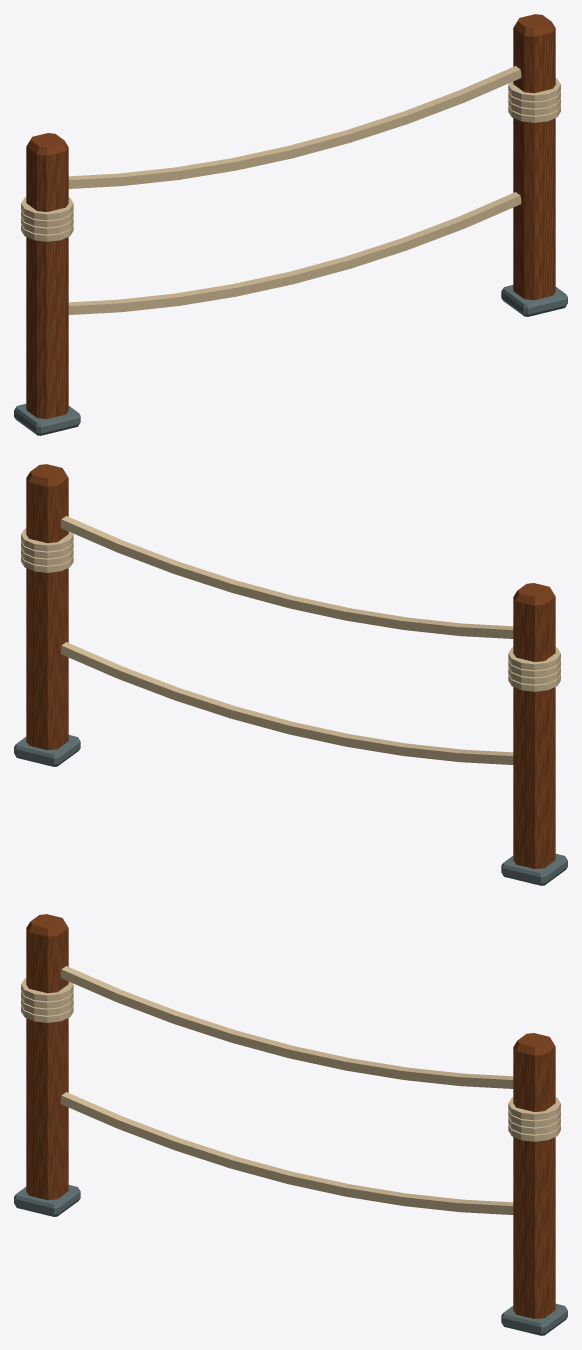
The model's file is ocean-raft-settlement-ocean-raft-settlement-rope-rail--f7137971__28897.glb.
3 views of the same model, one above another, from view 1: azimuth 30°, elevation 25°; view 2: azimuth 150°, elevation 25°; view 3: azimuth 330°, elevation 25° (orthographic).
Parts seen in each view (by area): view 1: wood, rope, iron; view 2: wood, rope, iron; view 3: wood, rope, iron.
Part boxes in pixels (x1,y1,x2,y2): wood: [26, 14, 555, 418]; rope: [21, 66, 560, 314]; iron: [14, 285, 567, 435]; wood: [26, 464, 555, 868]; rope: [21, 516, 560, 764]; iron: [14, 735, 567, 885]; wood: [26, 914, 555, 1318]; rope: [21, 966, 560, 1214]; iron: [14, 1185, 567, 1335].
Bounding box in the file's own units: 2.03 × 1.03 × 0.1741.
Materials: 3 (1 with a texture image).
